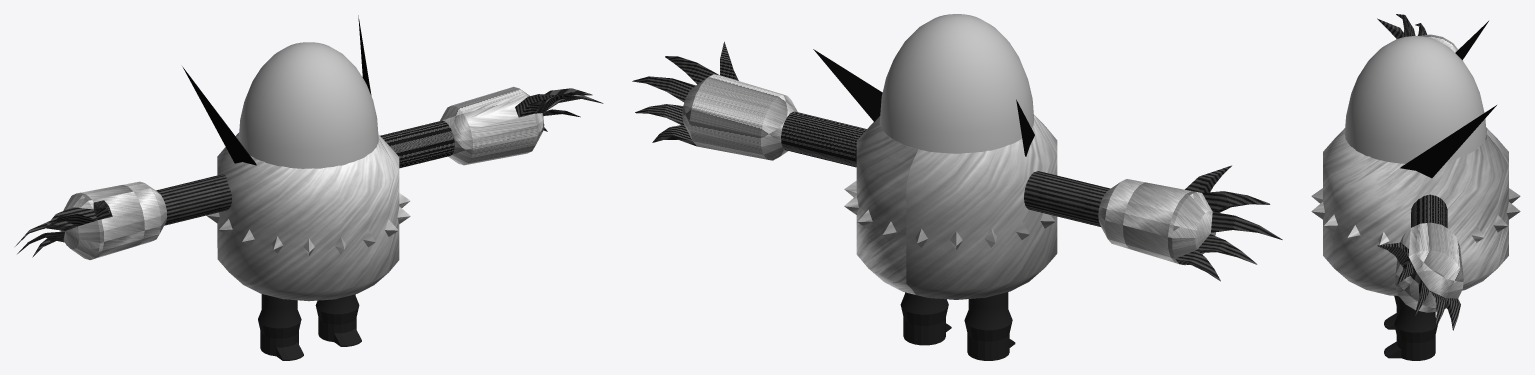
The model's file is SWISHER.fbx.
The picture shows the model from 3 angles, left to right: view 1: azimuth 30°, elevation 25°; view 2: azimuth 150°, elevation 25°; view 3: azimuth 270°, elevation 25°; orthographic projection. The views are drawn at different scales.
Parts seen in each view (by area): view 1: Cylinder001, Sphere001, Cylinder003, Cylinder002, Cylinder004, Cylinder005, Pyramid004; view 2: Cylinder001, Sphere001, Cylinder003, Cylinder002, Cylinder004, Cylinder005, Pyramid003; view 3: Cylinder001, Sphere001, Cylinder002, Cylinder005, Pyramid003, Cylinder003, Pyramid004, Cylinder004.
Part boxes in pixels (x1,y1,x2,y2): Cylinder001: [206, 132, 410, 301]; Sphere001: [239, 42, 378, 168]; Cylinder003: [15, 174, 231, 259]; Cylinder002: [380, 86, 603, 168]; Cylinder004: [258, 294, 303, 360]; Cylinder005: [315, 294, 361, 346]; Pyramid004: [182, 66, 256, 165]; Cylinder001: [844, 115, 1057, 299]; Sphere001: [879, 14, 1033, 153]; Cylinder003: [1024, 165, 1282, 281]; Cylinder002: [632, 41, 866, 167]; Cylinder004: [964, 292, 1015, 360]; Cylinder005: [900, 292, 951, 345]; Pyramid003: [813, 49, 882, 121]; Cylinder001: [1311, 127, 1520, 296]; Sphere001: [1344, 36, 1486, 163]; Cylinder002: [1377, 194, 1463, 330]; Cylinder005: [1384, 296, 1437, 360]; Pyramid003: [1400, 105, 1496, 178]; Cylinder003: [1377, 14, 1462, 60]; Pyramid004: [1455, 21, 1488, 59]; Cylinder004: [1384, 296, 1435, 329].
Bounding box in the file's own units: 37.93 × 18.14 × 11.55.
Materials: 12 (3 with a texture image).
